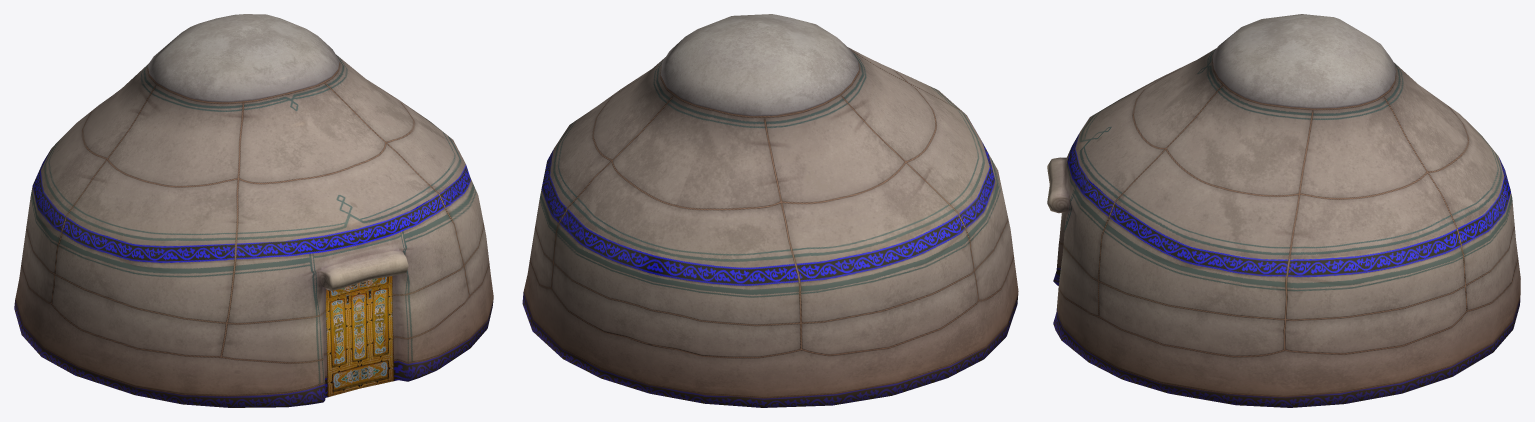
The model's file is yurt01 (2).fbx.
The picture shows the model from 3 angles, left to right: view 1: azimuth 30°, elevation 25°; view 2: azimuth 150°, elevation 25°; view 3: azimuth 270°, elevation 25°; orthographic projection. The views are drawn at different scales.
Parts seen in each view (by area): view 1: Yurt01; view 2: Yurt01; view 3: Yurt01.
Boxes of the visible parts, x1,y1,x2,y2 form: Yurt01: (14,14,493,407); Yurt01: (522,14,1018,407); Yurt01: (1047,14,1520,407).
Bounding box in the file's own units: 1055 × 670 × 1022.
Materials: 1 (1 with a texture image).
